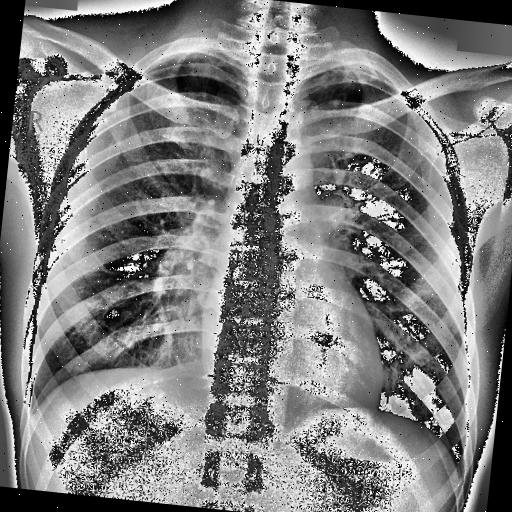11- Pleural thickening: (148, 46, 220, 74), (337, 60, 394, 84)
13- Pulmonary fibrosis: (306, 64, 370, 114), (326, 62, 374, 112), (316, 70, 358, 110)
